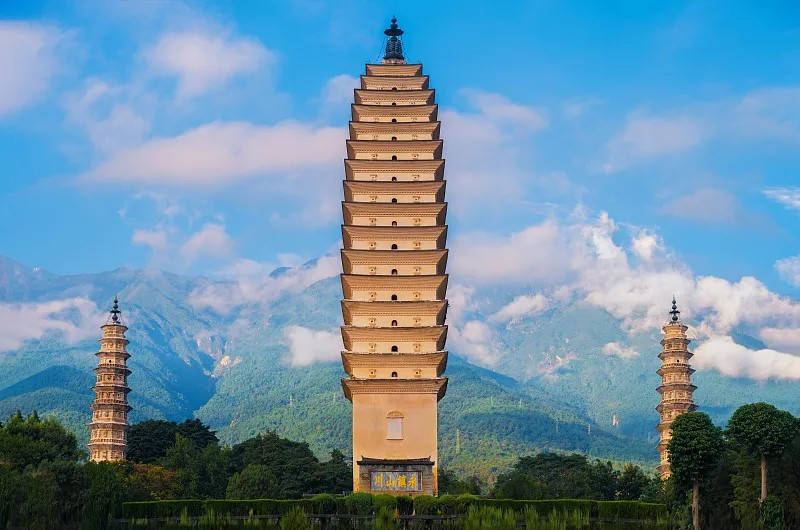ThreePagoda: (341, 14, 449, 495)
